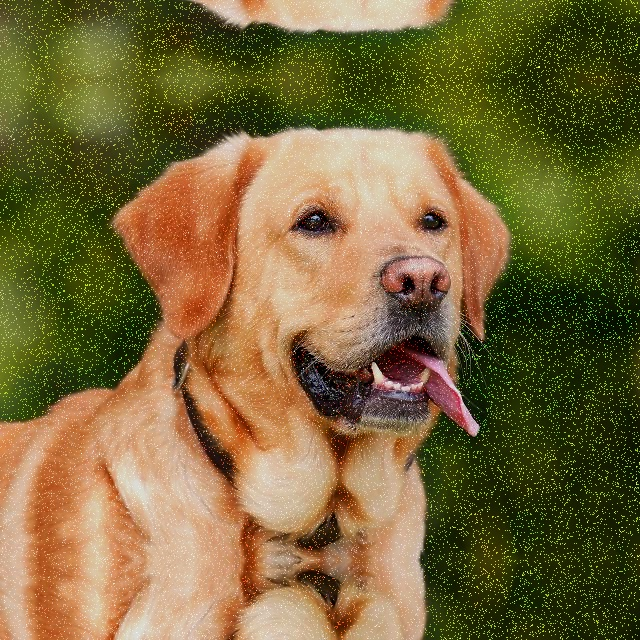dog: (108, 95, 556, 450), (108, 0, 556, 64)
